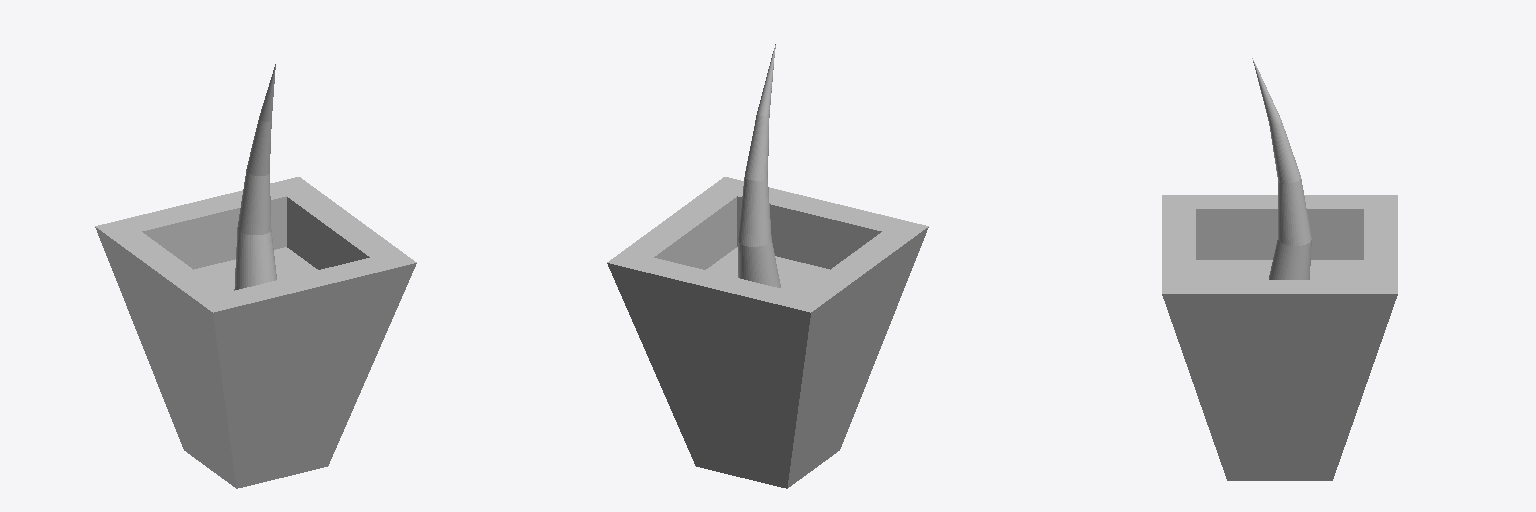
Rendered from prantinha 01_000005.obj.
3 views of the same model, side by side, from view 1: azimuth 30°, elevation 25°; view 2: azimuth 150°, elevation 25°; view 3: azimuth 270°, elevation 25° (orthographic).
Visible parts, largest first — view 1: Cube, NurbsPath; view 2: Cube, NurbsPath; view 3: Cube, NurbsPath.
Part boxes in pixels (x1,y1,x2,y2): Cube: (95, 177, 416, 488); NurbsPath: (234, 64, 276, 290); Cube: (607, 177, 928, 488); NurbsPath: (738, 44, 780, 287); Cube: (1162, 195, 1397, 480); NurbsPath: (1252, 58, 1311, 279).
Bounding box in the file's own units: 1.04 × 1.97 × 1.04.